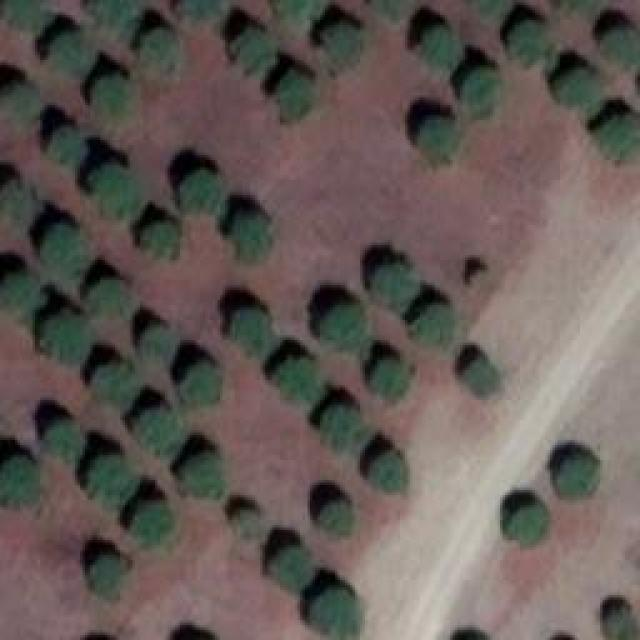Tree: (38, 308, 91, 368), (305, 587, 365, 640), (85, 455, 140, 508), (133, 407, 183, 465), (90, 165, 138, 225), (93, 75, 143, 130), (413, 25, 463, 78), (230, 28, 278, 83), (270, 0, 328, 45), (370, 263, 418, 316), (273, 358, 323, 408), (45, 33, 95, 83), (177, 453, 225, 503), (320, 403, 368, 453), (228, 215, 273, 268), (228, 308, 273, 361), (595, 113, 640, 166), (323, 20, 366, 73), (40, 225, 85, 275), (265, 548, 315, 593), (0, 454, 42, 507), (272, 65, 310, 123), (320, 305, 365, 353), (505, 17, 550, 65), (95, 363, 138, 413), (415, 115, 458, 165), (460, 68, 500, 121), (140, 28, 178, 83), (0, 0, 55, 38), (180, 170, 223, 218), (180, 360, 223, 408), (85, 0, 143, 35), (410, 303, 455, 348), (130, 503, 173, 548), (370, 357, 410, 405), (555, 68, 603, 108), (42, 417, 80, 465), (92, 555, 130, 603), (0, 273, 40, 316), (460, 355, 500, 398), (597, 30, 640, 70), (558, 455, 601, 495), (372, 450, 410, 495), (88, 280, 131, 318), (505, 505, 548, 543), (0, 177, 32, 227), (173, 0, 226, 30), (313, 500, 353, 538), (50, 125, 85, 168), (138, 325, 178, 360), (0, 83, 38, 118), (142, 223, 180, 258), (602, 607, 639, 640), (235, 510, 265, 538), (467, 268, 485, 288)
